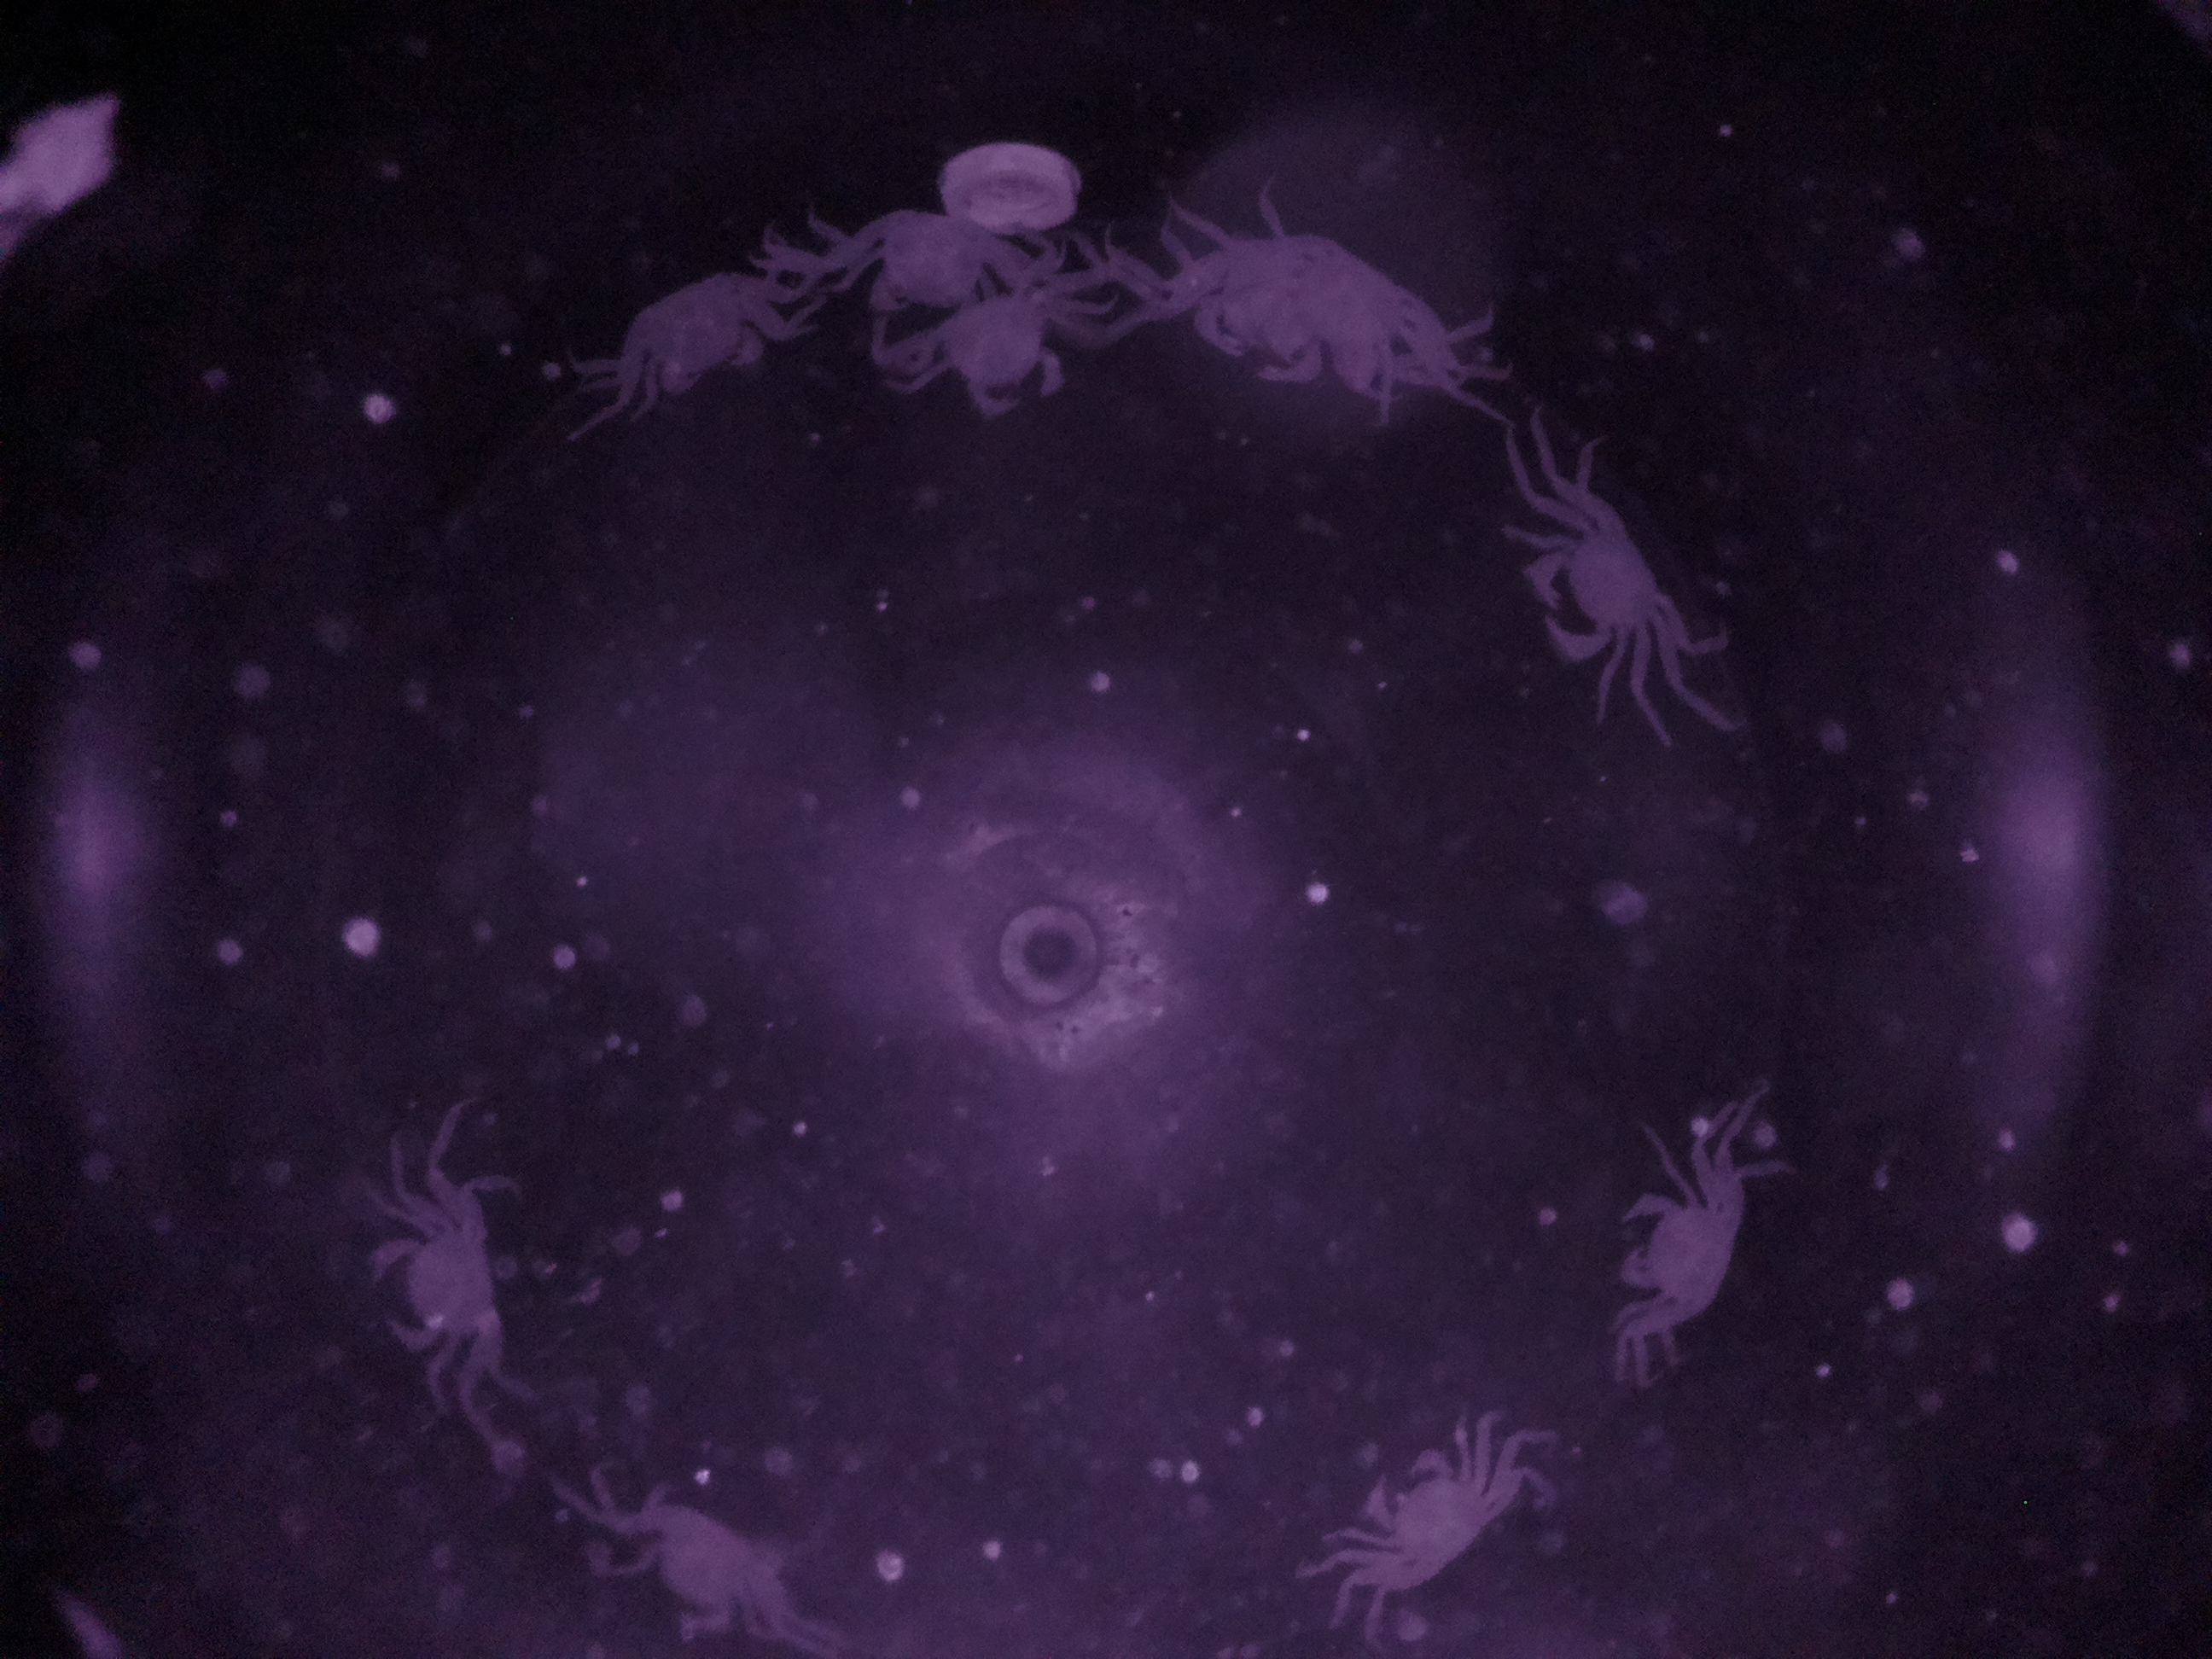Crab: (1503, 486, 1703, 704), (1313, 1424, 1527, 1607), (1595, 1150, 1761, 1347)
